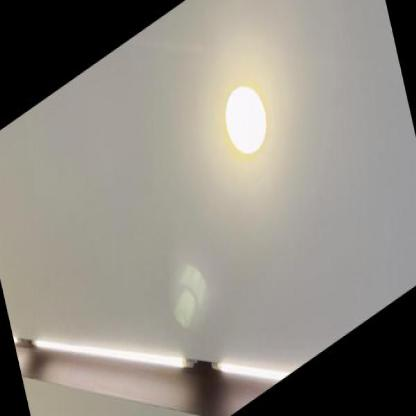light_on: (37, 240, 193, 415), (203, 300, 300, 415), (211, 56, 278, 186)
